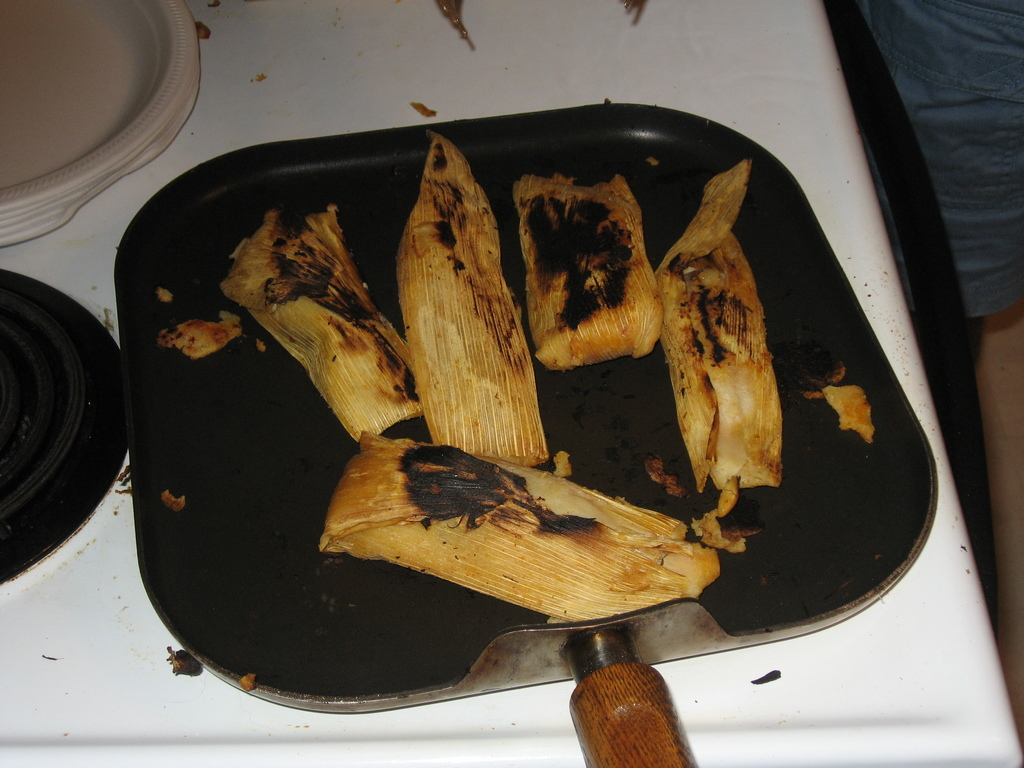plate: (112, 102, 938, 720)
